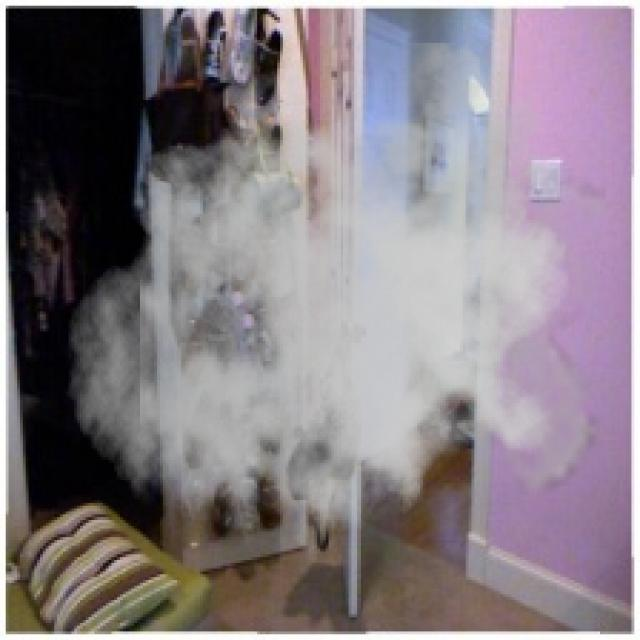smoke: (65, 43, 606, 586)
